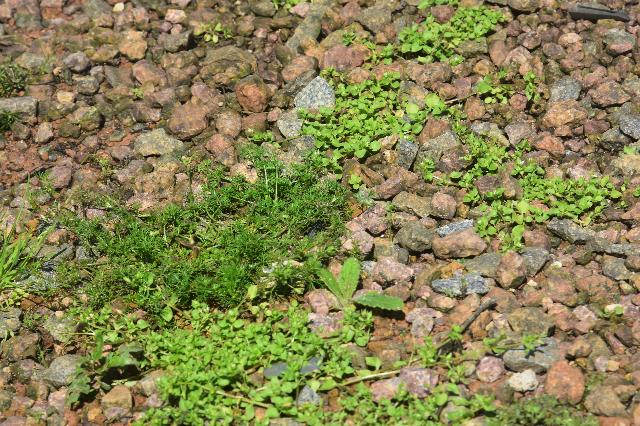MalezaMontesDelPlata: (29, 170, 351, 304), (449, 131, 630, 247), (58, 305, 319, 373), (137, 374, 467, 426), (292, 54, 403, 174), (400, 63, 545, 138), (340, 0, 501, 62), (0, 201, 66, 314), (302, 251, 414, 315), (0, 35, 63, 110), (186, 12, 243, 52)
